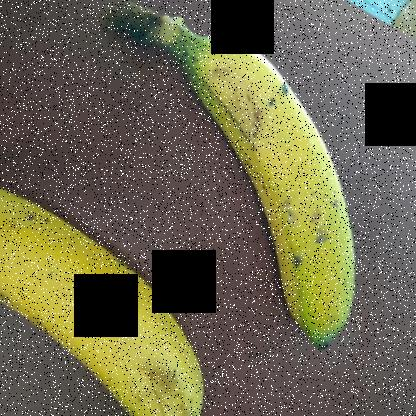freshripe: (0, 176, 222, 415)
ripe: (163, 17, 385, 369)
